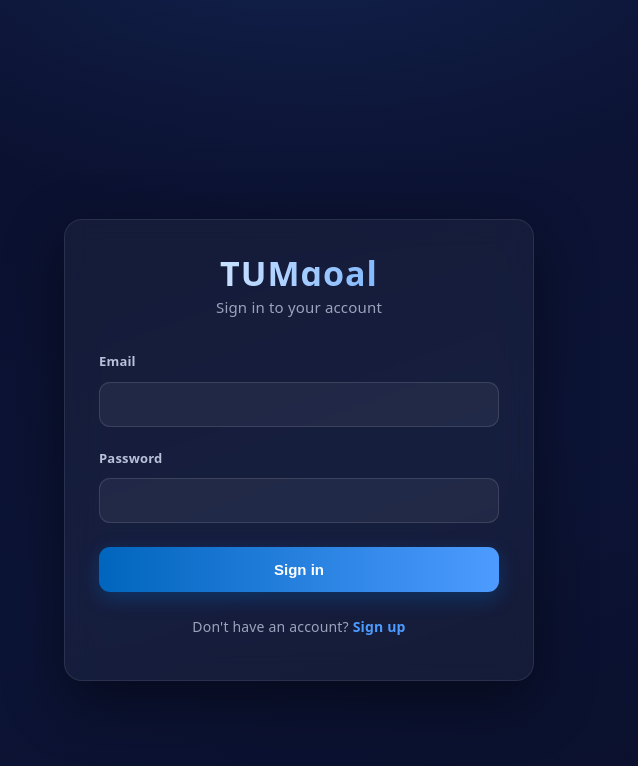
Scenario: Login page › shows generic error when thrown value is not Error
Type "test@example.com" into the field labelled "Email". click: (299, 404)
box: [99,382,499,426]
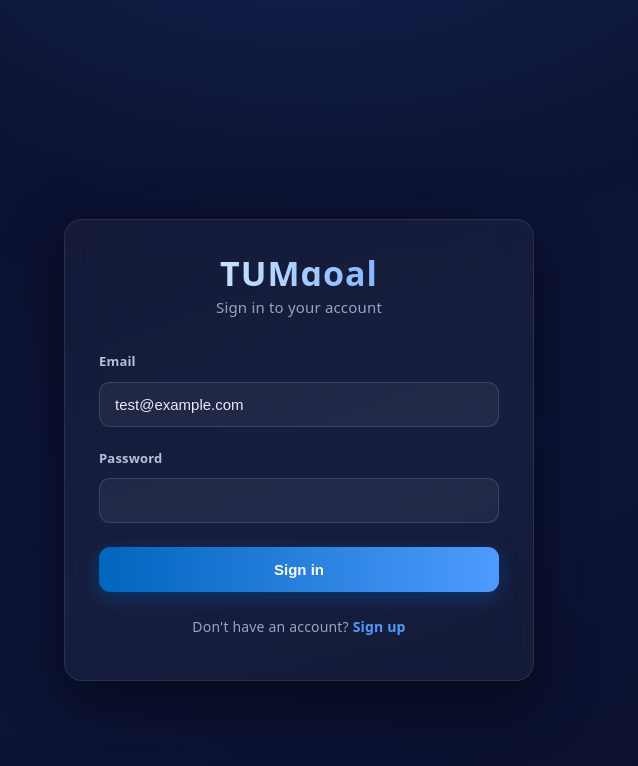
Type "password123" into the password field labelled "Password". click: (299, 500)
box: [99,478,499,523]
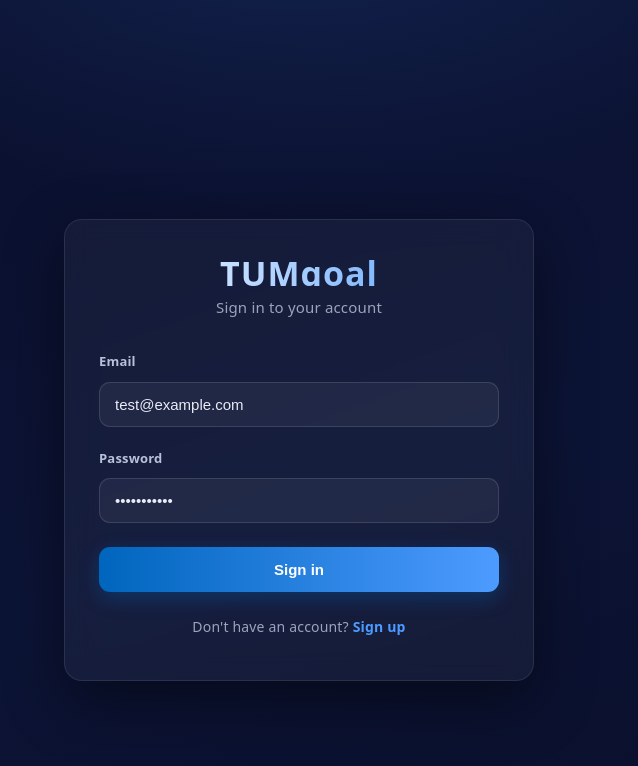
Click the button "Sign in". click: (299, 569)
box: [99,547,499,592]
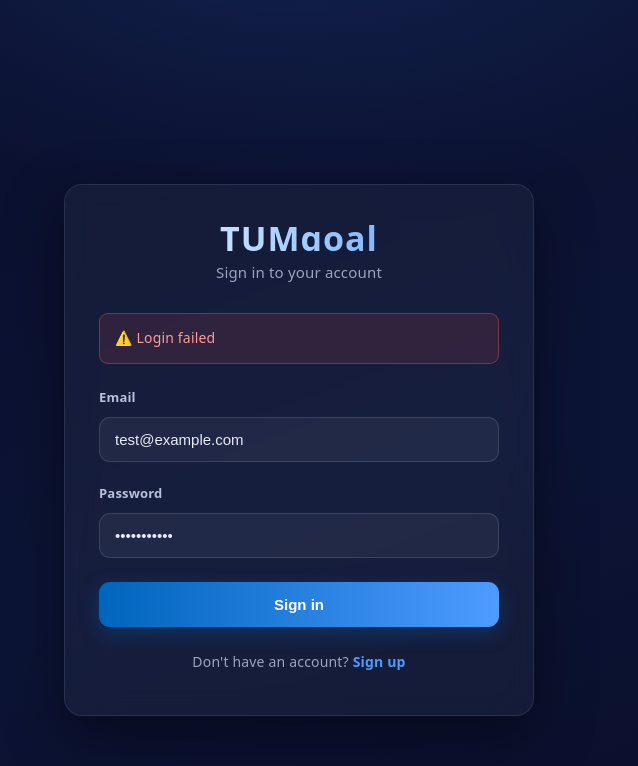
Expected: the text "⚠️ Login failed" is shown, [99,313,499,364]
